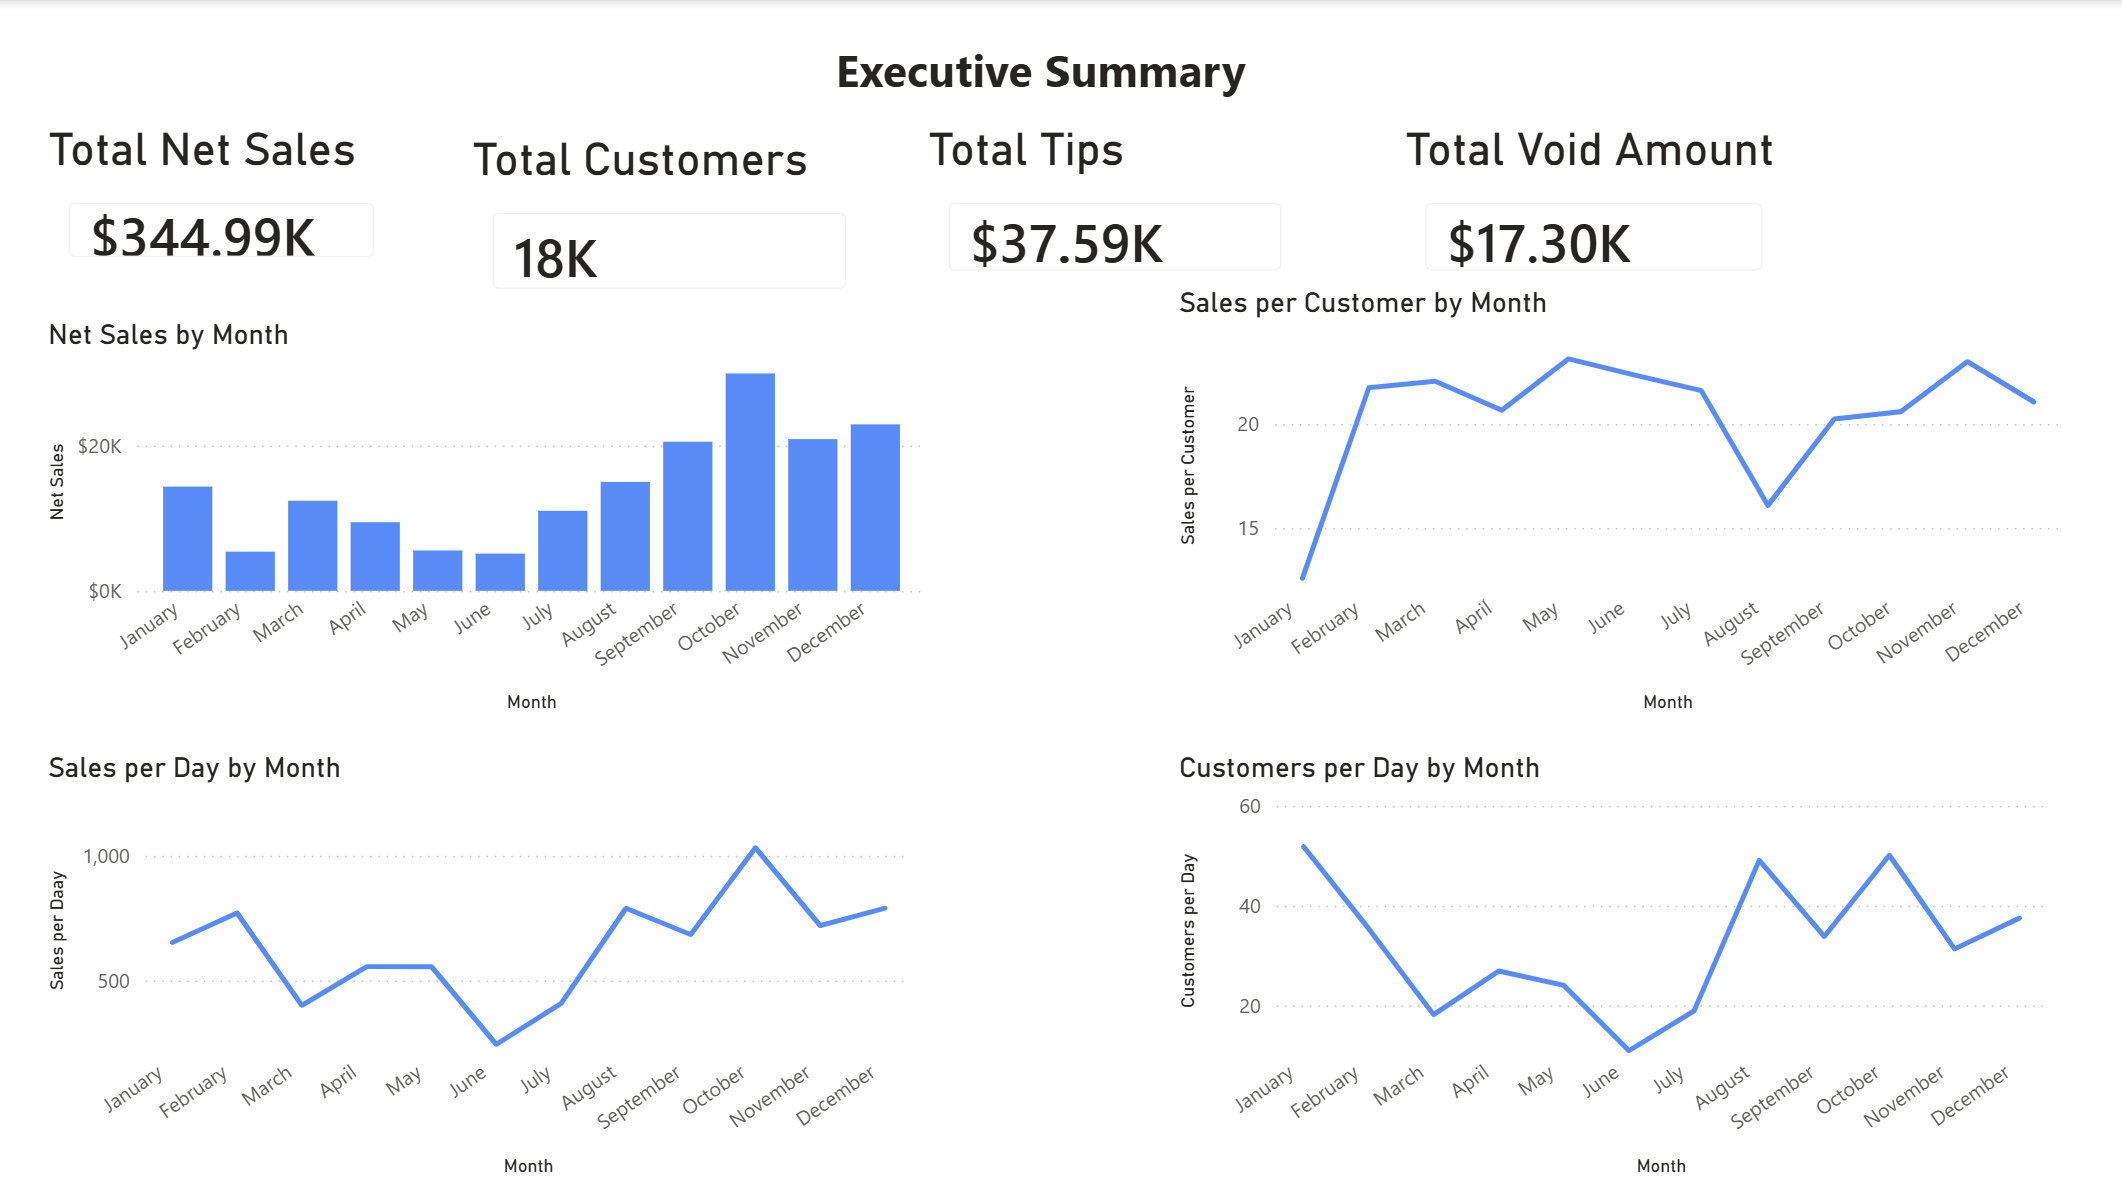

This screenshot's page, from the dashboard's own definition file:
{"tool":"powerbi","page":{"name":"Page 1","canvas":[1280,720],"ordinal":0},"visuals":[{"type":"cardVisual","title":"Total Net Sales","fields":{"Data":["Sum(MonthlyKPIsTable.Net Sales)"]},"box":[25.6,73.3,218.9,98.9],"z":0},{"type":"cardVisual","title":"Total Customers","fields":{"Data":["Sum(MonthlyKPIsTable.Total Customers)"]},"box":[280,78.9,247.8,112.2],"z":1000},{"type":"cardVisual","title":"Total Tips","fields":{"Data":["Sum(MonthlyKPIsTable.Total Tips)"]},"box":[554.4,73.3,234.4,106.7],"z":2000},{"type":"cardVisual","title":"Total Void Amount","fields":{"Data":["Sum(MonthlyKPIsTable.Void Amount)"]},"box":[841.1,73.3,237.8,106.7],"z":3000},{"type":"clusteredColumnChart","title":"Net Sales by Month","fields":{"Y":["Sum(MonthlyKPIsTable.Net Sales)"],"Category":["MonthSort.Month"]},"box":[25.6,191.1,537.8,241.1],"z":4000},{"type":"lineChart","title":"Sales per Day by Month","fields":{"Y":["Sum(MonthlyKPIsTable.Sales/Day)"],"Category":["MonthSort.Month"]},"box":[25.6,451.1,528.9,260],"z":5000},{"type":"lineChart","title":"Customers per Day by Month","fields":{"Y":["Sum(MonthlyKPIsTable.Customers/Day)"],"Category":["MonthSort.Month"]},"box":[704.4,451.1,531.1,260],"z":6000},{"type":"lineChart","title":"Sales per Customer by Month","fields":{"Y":["Sum(MonthlyKPIsTable.Sales/Customer)"],"Category":["MonthSort.Month"]},"box":[704.4,172.2,540,260],"z":7000},{"type":"textbox","box":[308.9,17.8,635.6,48.9],"z":8000}]}

Visuals, with their boxes in screenshot pixels (x1, y1, x2, y2), scaled from the page's 1280x720 canvas onto the 2122x1196 screenshot:
"Total Net Sales" cardVisual: left=42, top=122, right=405, bottom=286
"Total Customers" cardVisual: left=464, top=131, right=875, bottom=317
"Total Tips" cardVisual: left=919, top=122, right=1308, bottom=299
"Total Void Amount" cardVisual: left=1394, top=122, right=1789, bottom=299
"Net Sales by Month" clusteredColumnChart: left=42, top=317, right=934, bottom=718
"Sales per Day by Month" lineChart: left=42, top=749, right=919, bottom=1181
"Customers per Day by Month" lineChart: left=1168, top=749, right=2048, bottom=1181
"Sales per Customer by Month" lineChart: left=1168, top=286, right=2063, bottom=718
textbox: left=512, top=30, right=1566, bottom=111
